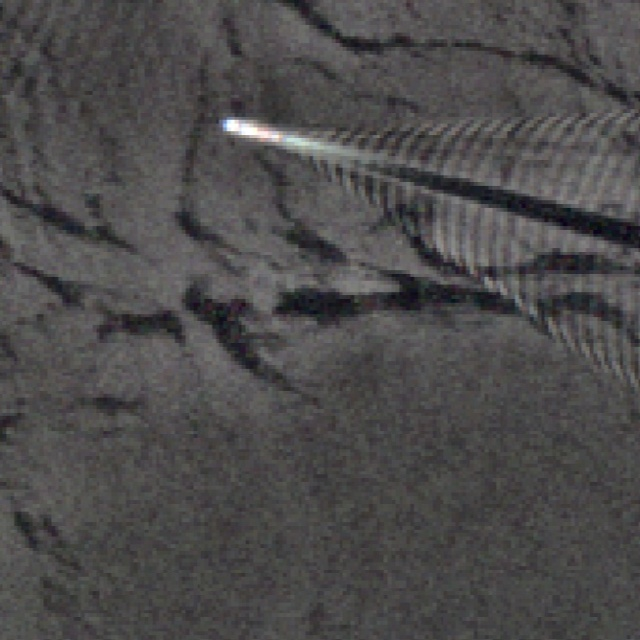wake: (186, 43, 610, 304)
